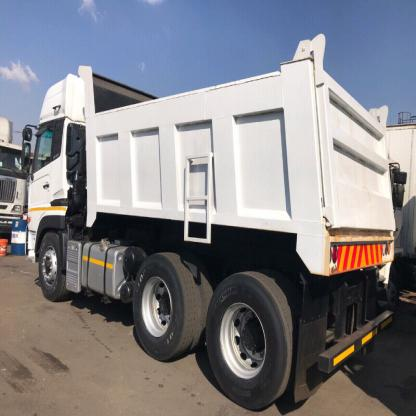dump_truck: (21, 34, 390, 394)
